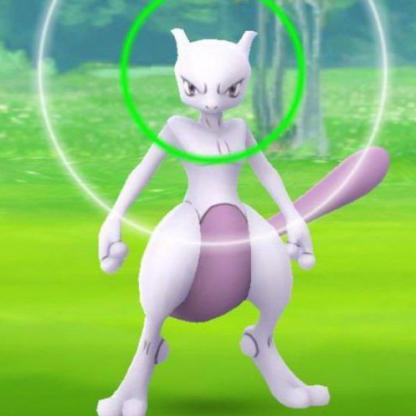Mewtwo: (67, 1, 413, 416)
